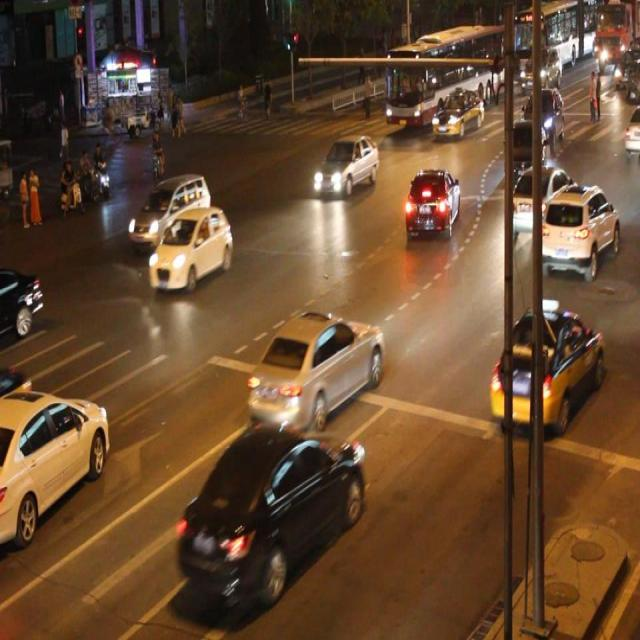car: (175, 422, 363, 602), (1, 389, 110, 540), (246, 309, 384, 427), (488, 305, 603, 427), (538, 183, 618, 276), (147, 207, 233, 290), (129, 176, 211, 247), (506, 165, 575, 232), (403, 167, 458, 241), (312, 134, 378, 195), (1, 266, 43, 341), (504, 120, 546, 191), (430, 92, 482, 136)
